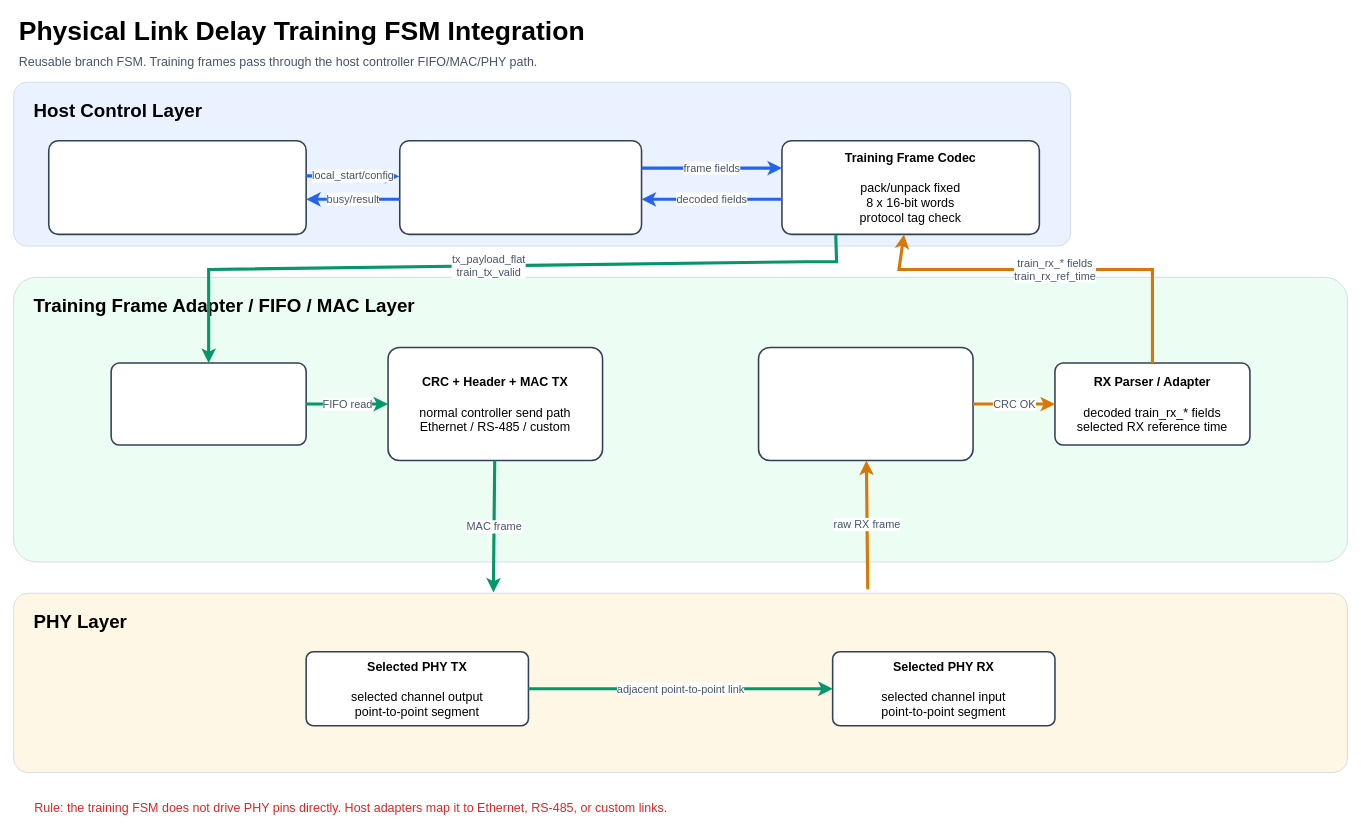
The diagram is 1361 pixels wide and 832 high, and some of its shapes have lost their labels. The centre of each missing label's shape, as x and y in pixels:
"Host Controller freeze traffic select link/channel start/store result" belongs at (x=177, y=187).
"MAC RX + CRC Check normal controller receive path CRC/protocol status" belongs at (x=865, y=403).
"Training Branch FSM DELAY_REQ / DELAY_RESP RTT average trained_path_delay" belongs at (x=520, y=187).
"TX FIFO / Adapter accept train_tx_* fields selected TX reference point" belongs at (x=208, y=403).
